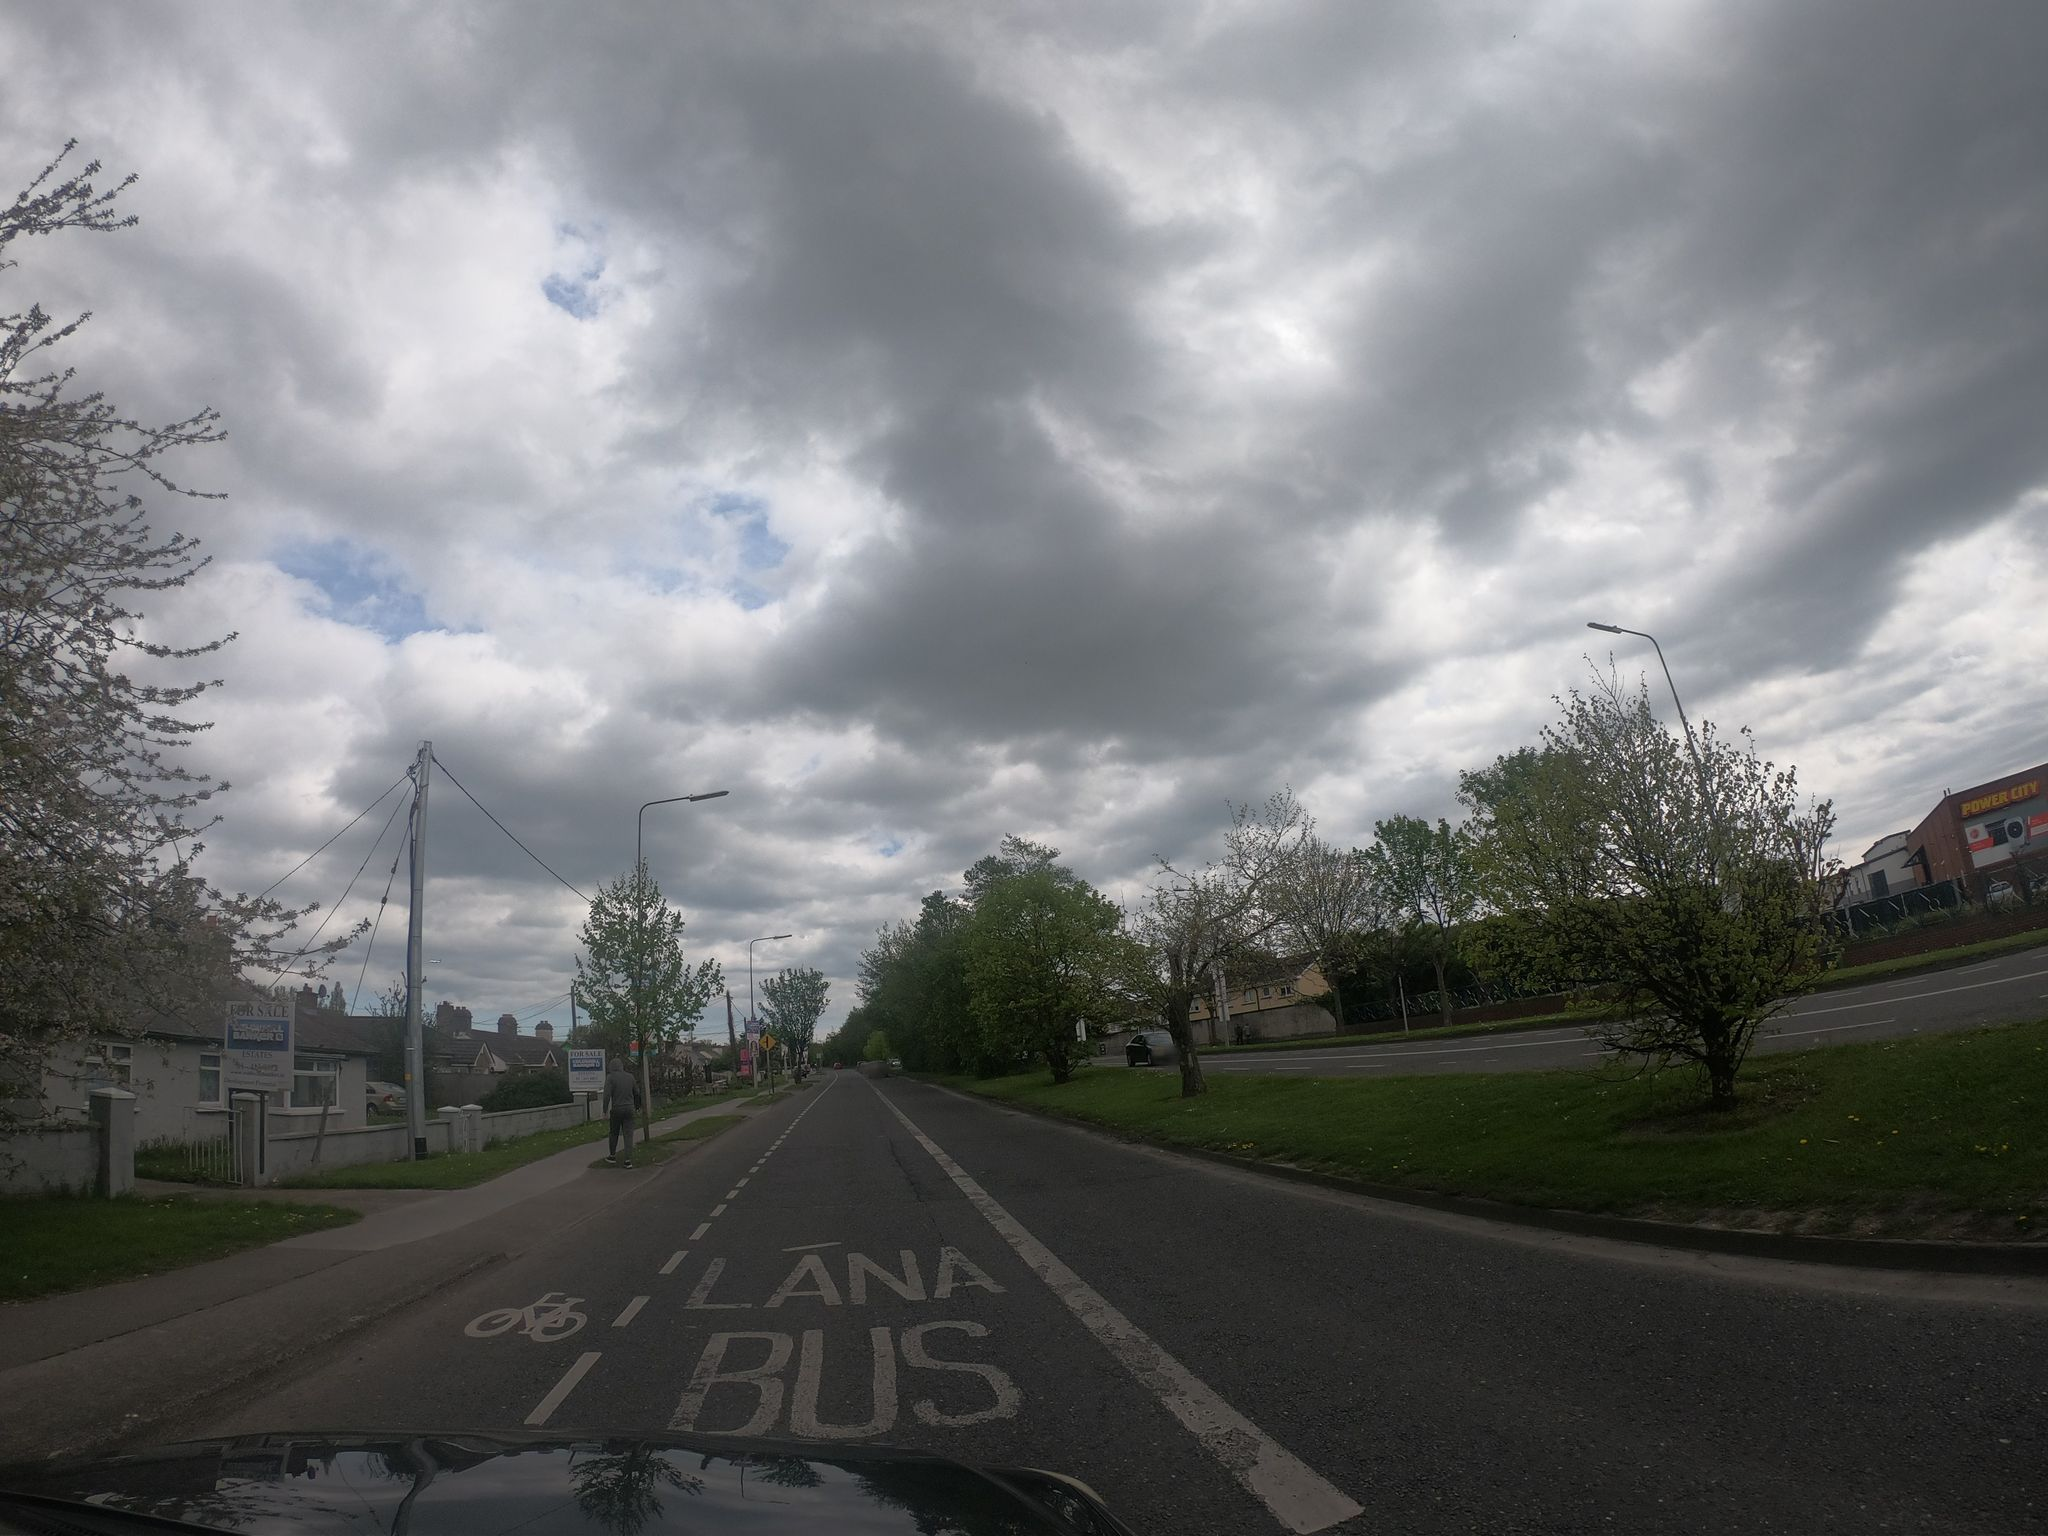property sign: (218, 978, 306, 1110), (556, 1029, 613, 1105)
